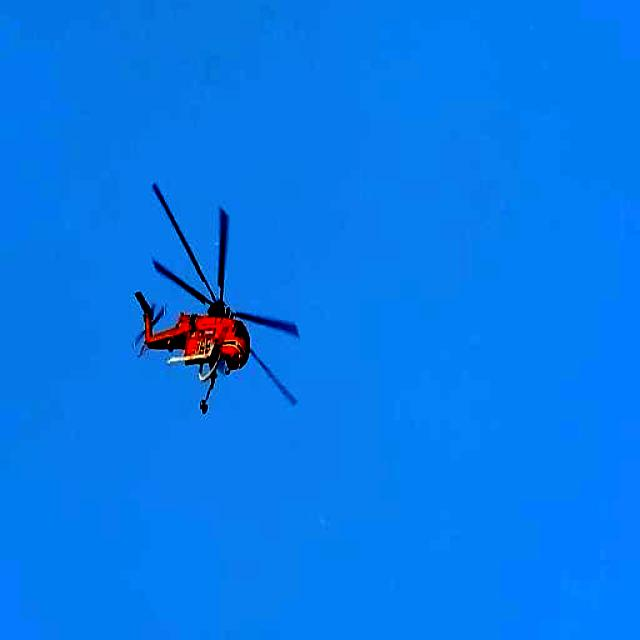drone: (130, 176, 308, 430)
